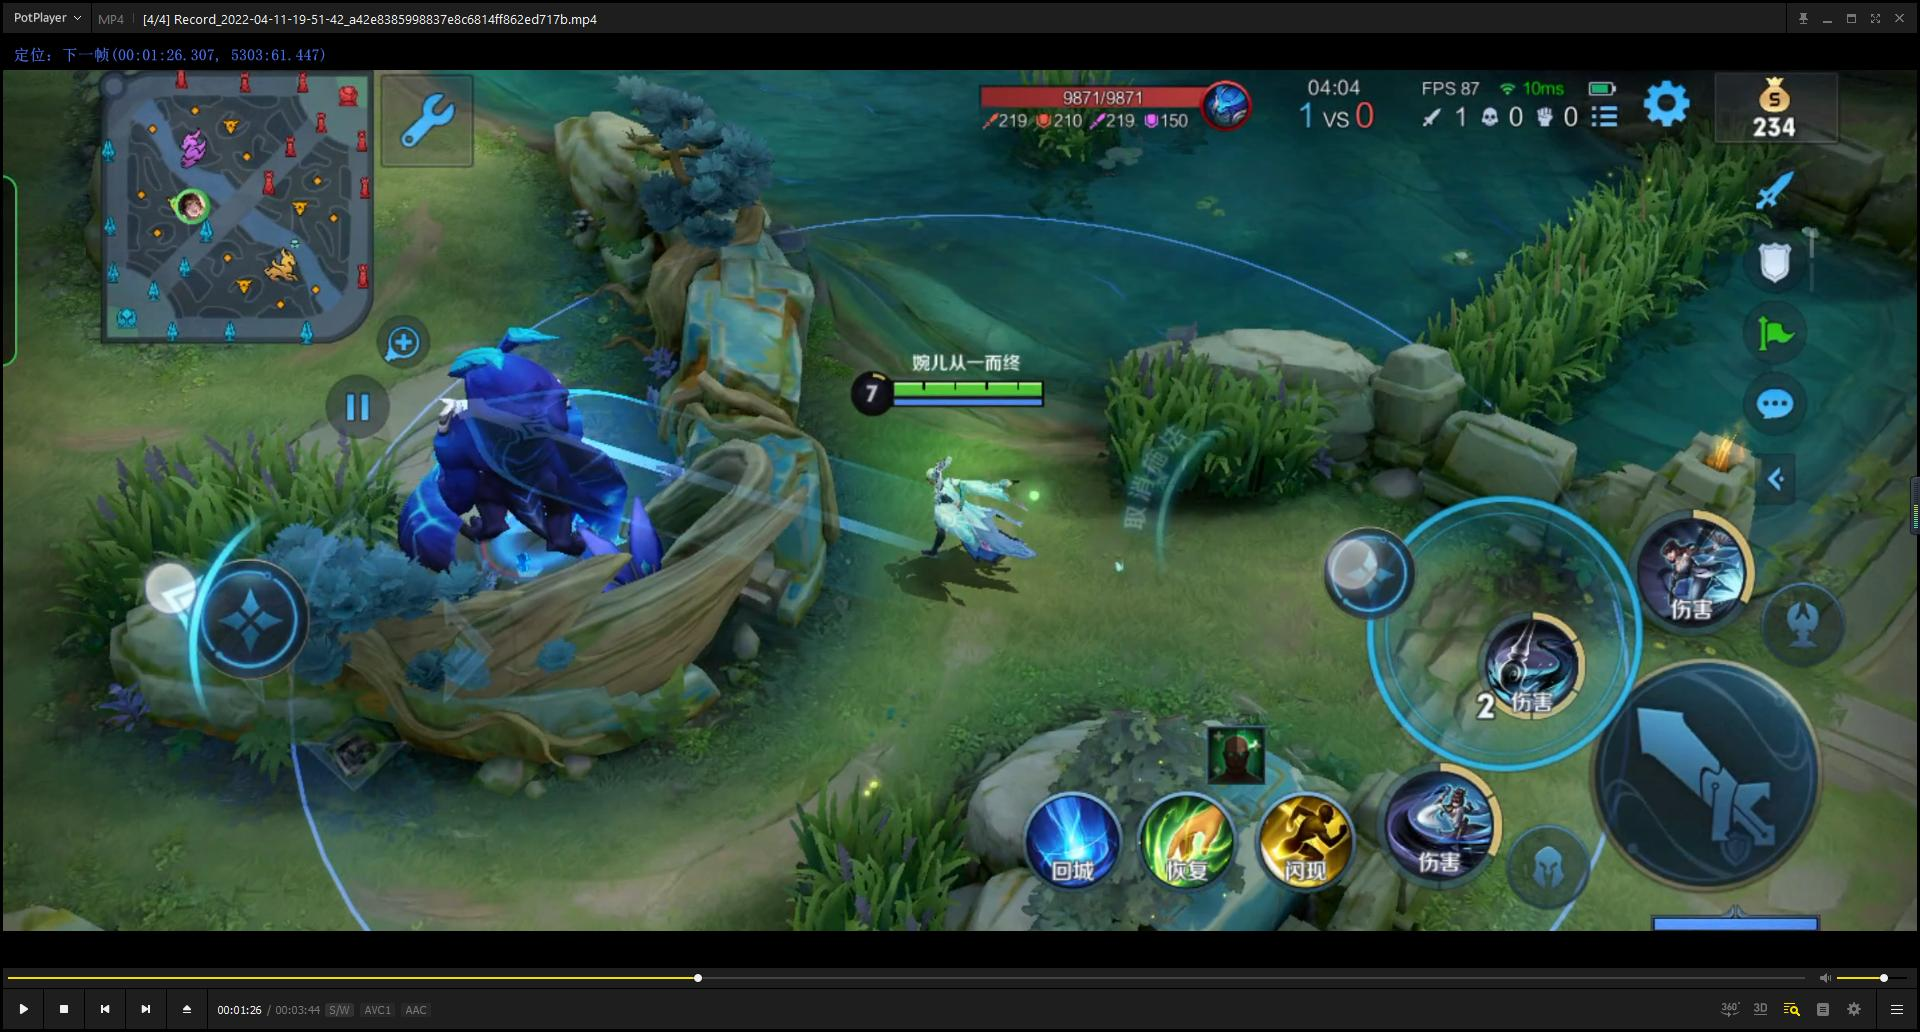Buff: (374, 285, 637, 600)
Hero: (864, 446, 1070, 613)
